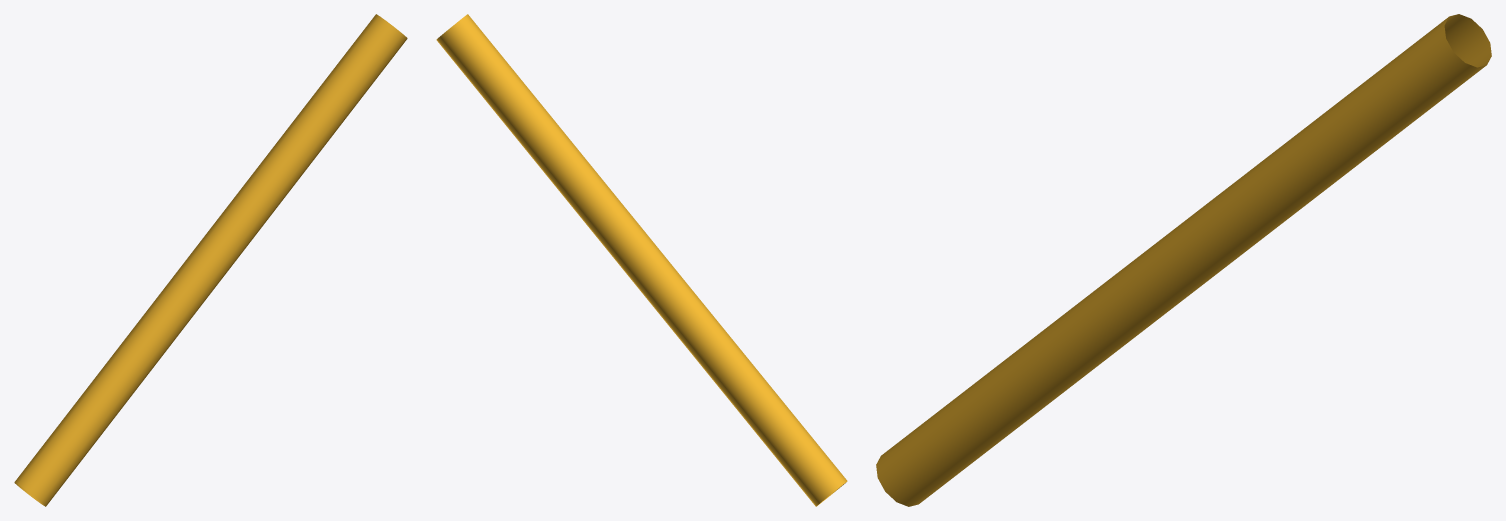
The model's file is nervoso-posterior-cord-of-brachial-plexus-r.glb.
The picture shows the model from 3 angles, left to right: view 1: azimuth 30°, elevation 25°; view 2: azimuth 150°, elevation 25°; view 3: azimuth 330°, elevation 25°; orthographic projection. The views are drawn at different scales.
Visible parts, largest first — view 1: Posterior cord of brachial plexus.r; view 2: Posterior cord of brachial plexus.r; view 3: Posterior cord of brachial plexus.r.
Part boxes in pixels (left/top/right/bottom): Posterior cord of brachial plexus.r: left=14, top=14, right=407, bottom=506; Posterior cord of brachial plexus.r: left=436, top=14, right=847, bottom=506; Posterior cord of brachial plexus.r: left=876, top=14, right=1491, bottom=506.
Size of the model in its own units: 0.0224 by 0.0218 by 0.00259.
